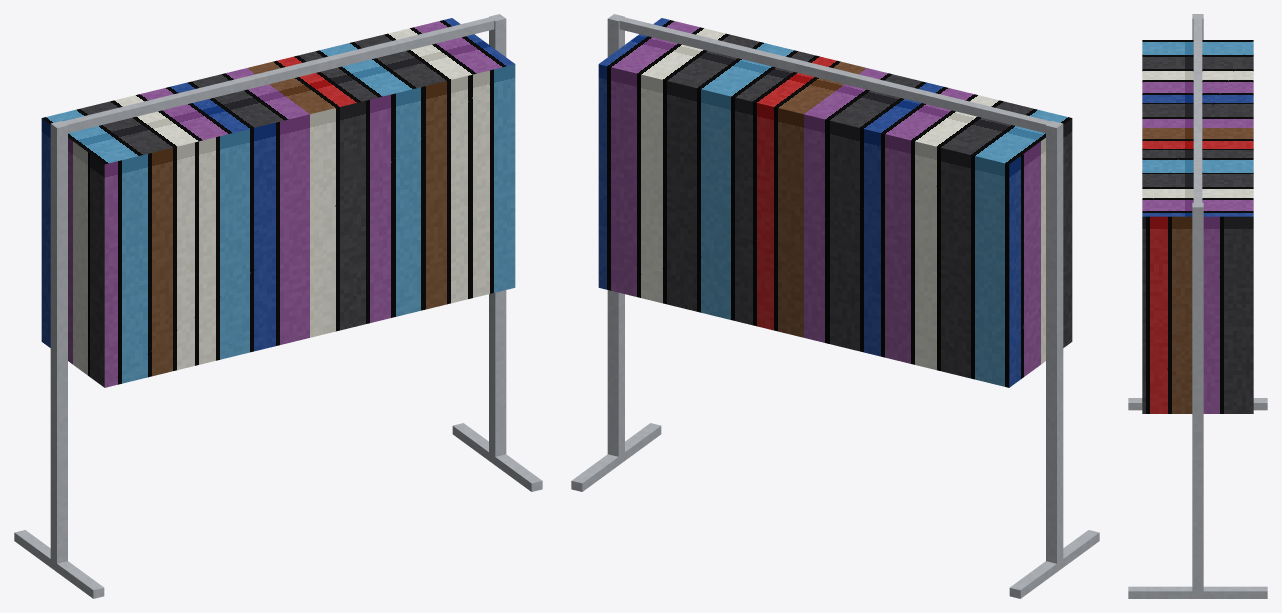
File: clothes_rack.glb
3 renders of one model, left to right at view 1: azimuth 30°, elevation 25°; view 2: azimuth 150°, elevation 25°; view 3: azimuth 270°, elevation 25°, orthographic. The views are drawn at different scales.
Parts seen in each view (by area): view 1: clothes_rack; view 2: clothes_rack; view 3: clothes_rack.
Part boxes in pixels (left/top/right/bottom): clothes_rack: left=14, top=14, right=542, bottom=598; clothes_rack: left=571, top=14, right=1099, bottom=598; clothes_rack: left=1128, top=14, right=1267, bottom=598.
Bounding box in the file's own units: 1.64 × 1.55 × 0.5.
3 materials, 3 textured.
